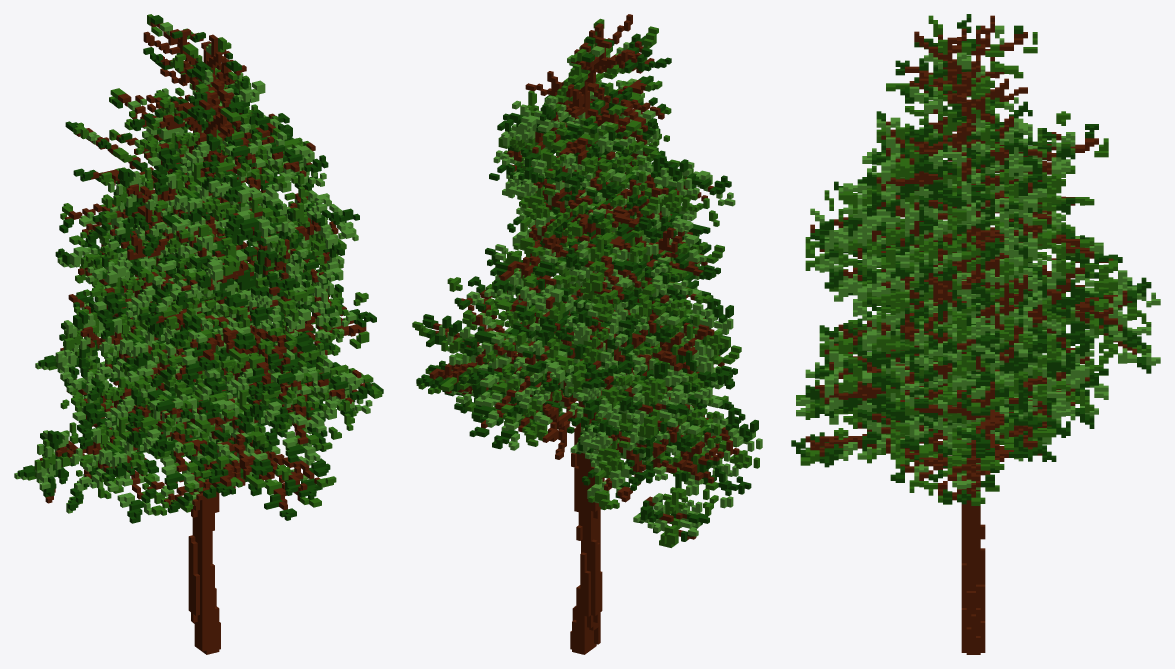
File: Arvre1.fbx
3 views of the same model, side by side, from view 1: azimuth 30°, elevation 25°; view 2: azimuth 150°, elevation 25°; view 3: azimuth 270°, elevation 25° (orthographic).
Parts seen in each view (by area): view 1: Vegetacao.002; view 2: Vegetacao.002; view 3: Vegetacao.002.
Boxes of the visible parts, x1,y1,x2,y2 form: Vegetacao.002: [14, 14, 383, 654]; Vegetacao.002: [412, 14, 762, 654]; Vegetacao.002: [791, 14, 1160, 654].
Size of the model in its own units: 8100 by 14200 by 7800.
